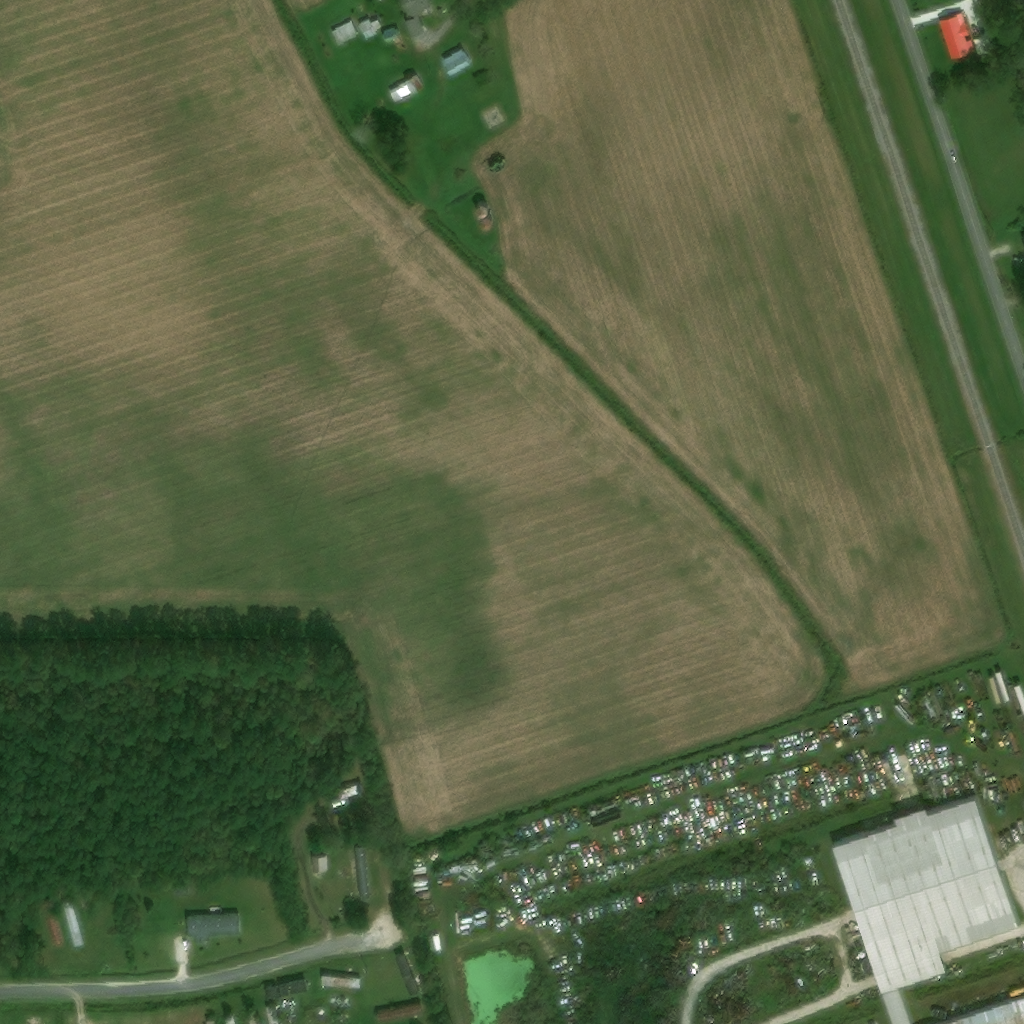no_damage: (827, 796, 1020, 992), (932, 993, 1024, 1023), (937, 13, 973, 60), (343, 847, 372, 902), (186, 914, 242, 942), (398, 0, 433, 40), (393, 953, 421, 997), (377, 1002, 424, 1023), (318, 784, 360, 807), (441, 48, 471, 75), (264, 981, 308, 999), (320, 975, 364, 992), (331, 21, 358, 44), (357, 18, 382, 40), (389, 83, 411, 102), (402, 74, 424, 93), (264, 1005, 282, 1023), (381, 27, 399, 43), (243, 1008, 261, 1023), (478, 216, 495, 230), (473, 203, 490, 215), (174, 886, 192, 896), (225, 1012, 240, 1023), (1020, 232, 1024, 248)
